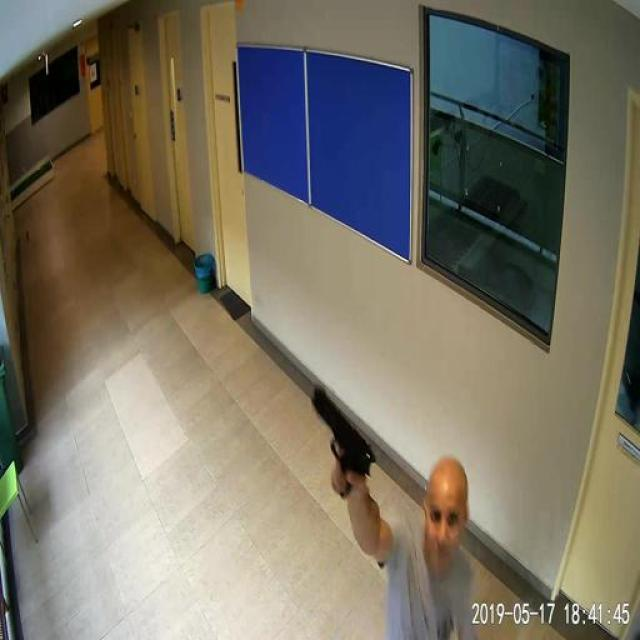Gun: (304, 380, 379, 500)
